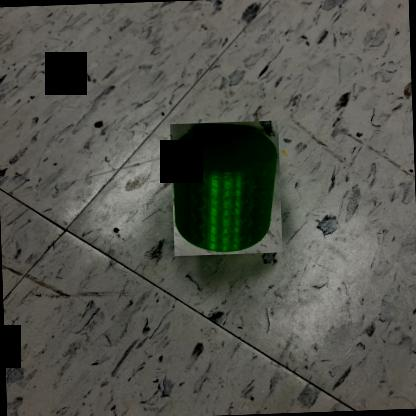green cylinder: (170, 121, 284, 256)
